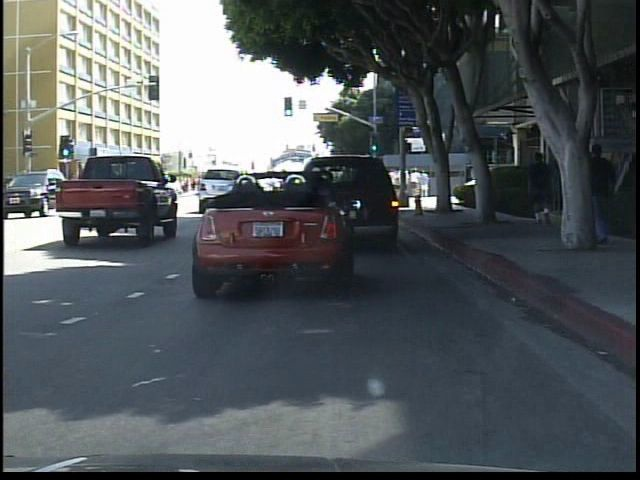person: (589, 136, 625, 248), (524, 149, 560, 230), (148, 171, 166, 199)
